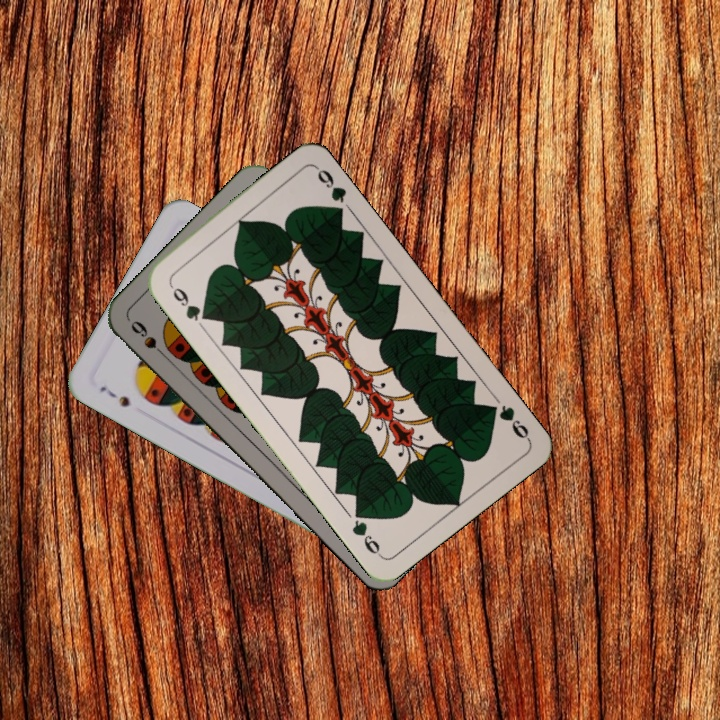G9: (164, 278, 212, 324), (482, 400, 532, 443)
S7: (95, 382, 133, 410)
S9: (126, 316, 173, 364)
